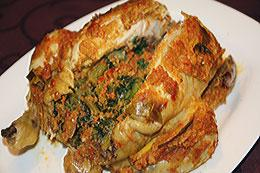ayam_betutu: (2, 1, 237, 171)
